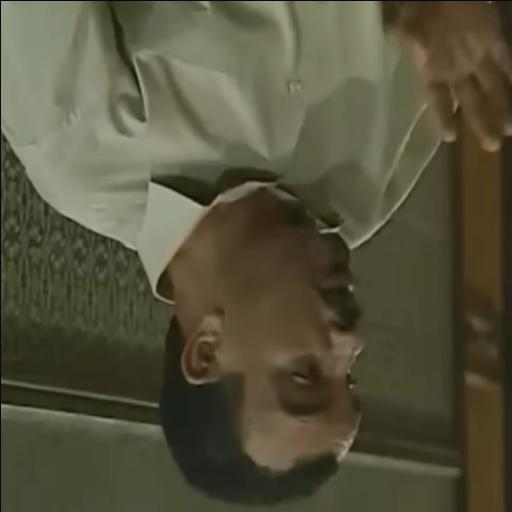slimane: (154, 191, 364, 506)
